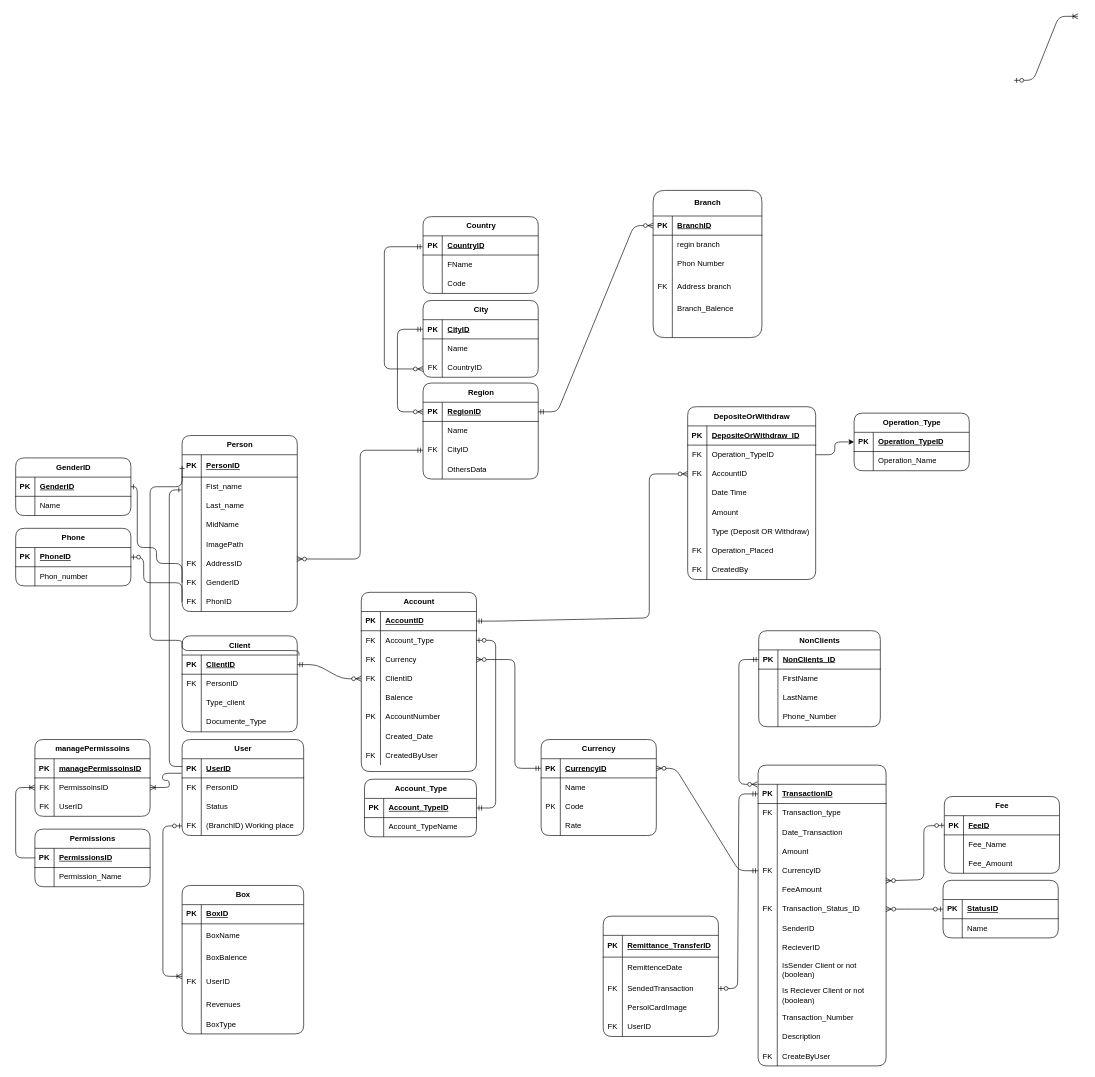
Image size: 1095x1077. Some labels were removed from this diagram. Here are the shapes that lost their labels. From the top down, the box of each, then its label:
(757, 764, 886, 1066): Send Transaction
(942, 880, 1058, 938): Transaction_Status
(603, 916, 718, 1036): Remittance Transaction
